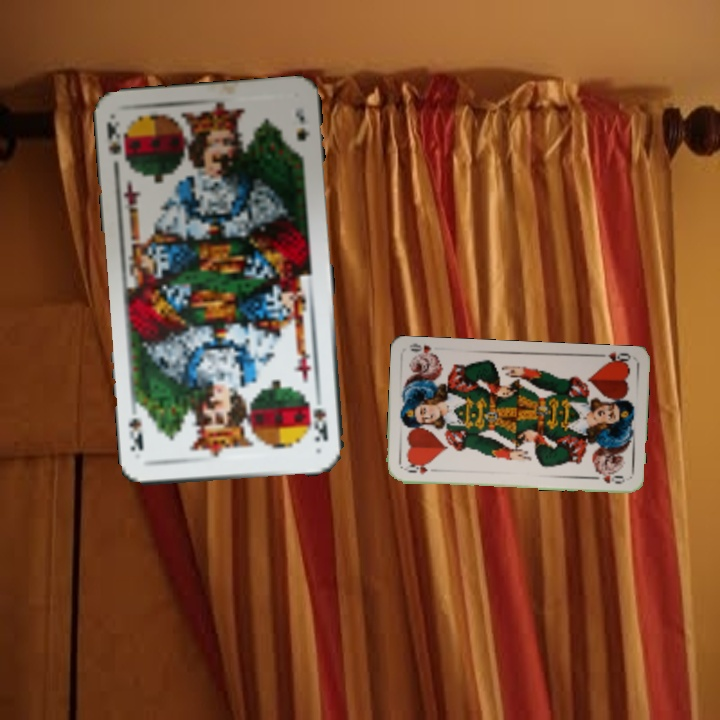HO: (594, 348, 633, 368), (404, 460, 441, 477)
SK: (309, 404, 331, 444), (102, 117, 124, 157)
